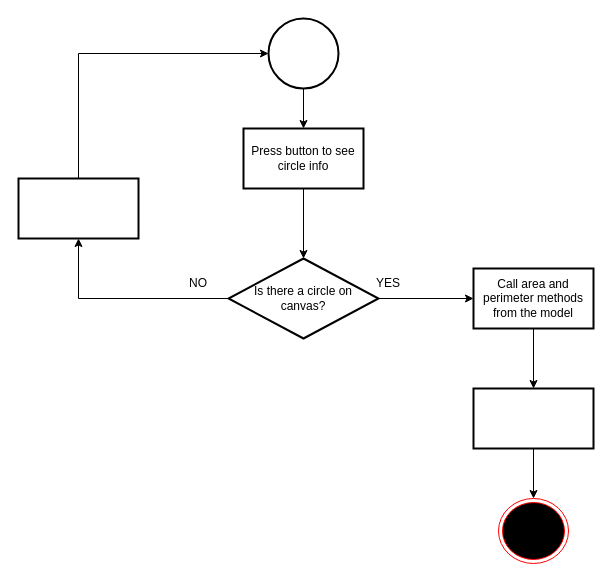
The diagram is 611 pixels wide and 581 high, and some of its shapes have lost their labels. Each missing label, with the centre of its shape:
"Display error" belongs at point 78,208.
"Display perimeter and area" belongs at point 533,418.
